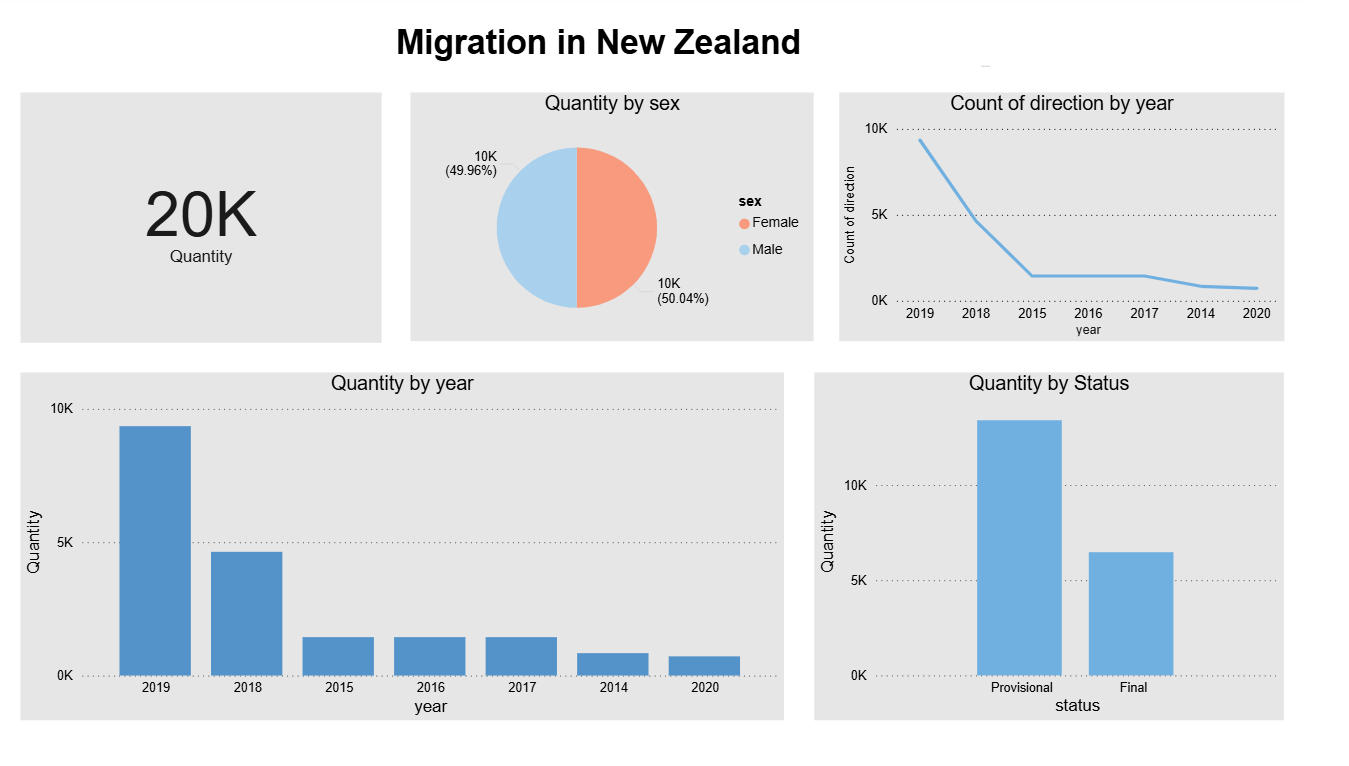

The page's visual inventory and layout, read from the dashboard file:
{"tool":"powerbi","page":{"name":"Análisis de datos","canvas":[1280,720],"ordinal":0},"visuals":[{"type":"pieChart","fields":{"Y":["march-2020-im-estimated-migration-by-age-sex-csv-44.quantity"],"Category":["march-2020-im-estimated-migration-by-age-sex-csv-44.sex"]},"box":[411.4,92.9,384.3,237.1],"z":0},{"type":"card","fields":{"Values":["march-2020-im-estimated-migration-by-age-sex-csv-44.quantity"]},"box":[40,92.9,344.3,238.6],"z":1000},{"type":"columnChart","title":"Quantity by Status","fields":{"Y":["march-2020-im-estimated-migration-by-age-sex-csv-44.quantity"],"Category":["march-2020-im-estimated-migration-by-age-sex-csv-44.status"]},"box":[796.2,360,447.5,331.2],"z":2000},{"type":"columnChart","fields":{"Y":["column_year.quantity"],"Category":["column_year.year"]},"box":[40,360,727.1,331.4],"z":3000},{"type":"lineChart","fields":{"Category":["column_year.year"],"Y":["CountNonNull(column_year.direction)"]},"box":[820,92.9,424.3,237.1],"z":4000},{"type":"textbox","title":"Migration in New Zealand ","box":[212.9,27.1,755.7,45.7],"z":5000}]}

Visuals, with their boxes in screenshot pixels (x1, y1, x2, y2), scaled from the page's 1280x720 canvas onto the 1349x766 screenshot:
pieChart - march-2020-im-estimated-migration-by-age-sex-csv-44.quantity x march-2020-im-estimated-migration-by-age-sex-csv-44.sex: 434 99 839 351
card - march-2020-im-estimated-migration-by-age-sex-csv-44.quantity: 42 99 405 353
"Quantity by Status" columnChart: 839 383 1311 735
columnChart - column_year.quantity x column_year.year: 42 383 808 736
lineChart - column_year.year x CountNonNull(column_year.direction): 864 99 1311 351
"Migration in New Zealand " textbox: 224 29 1021 77
